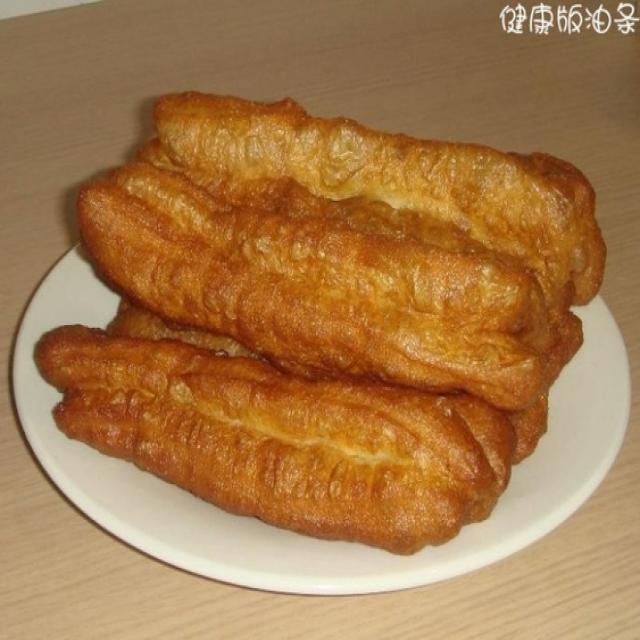炸货点心: (48, 42, 617, 602)
